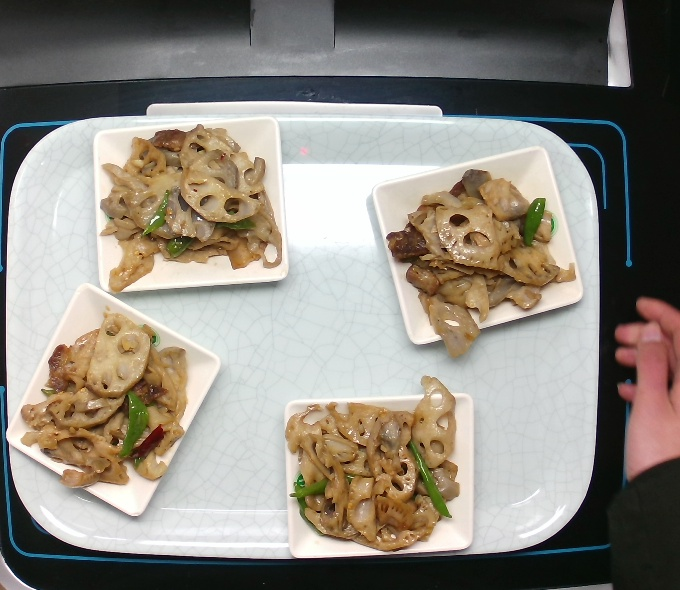wcq-OuPianChaoRou: (379, 161, 583, 359), (275, 367, 468, 556), (17, 301, 196, 494), (93, 121, 287, 299)
